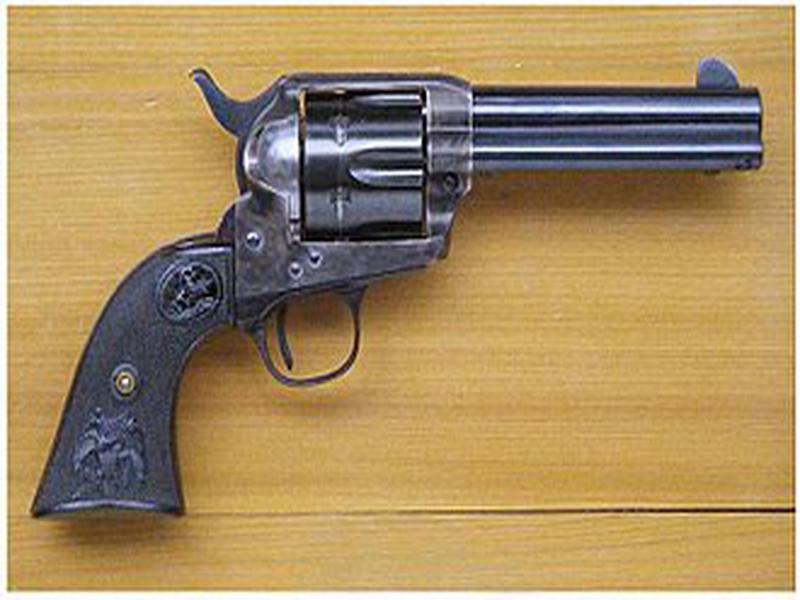Revolver: (42, 44, 772, 404)
